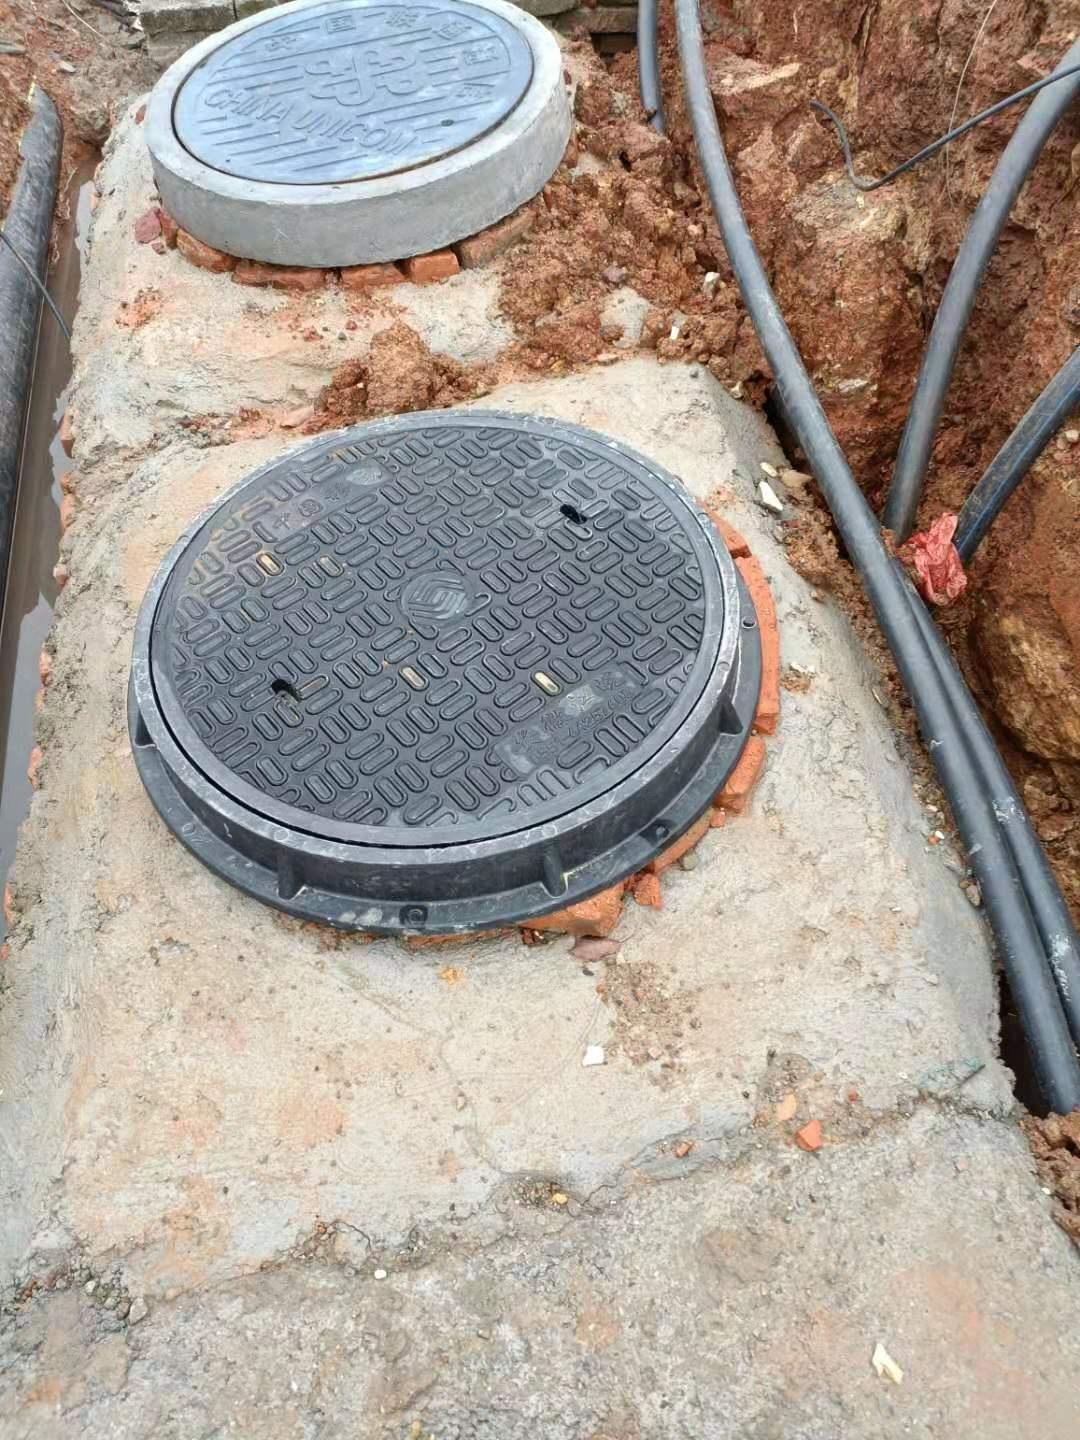good: (125, 412, 761, 937), (149, 1, 560, 201)
